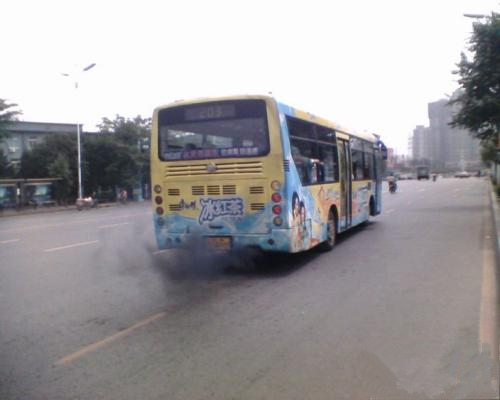smoke: (111, 235, 263, 302)
